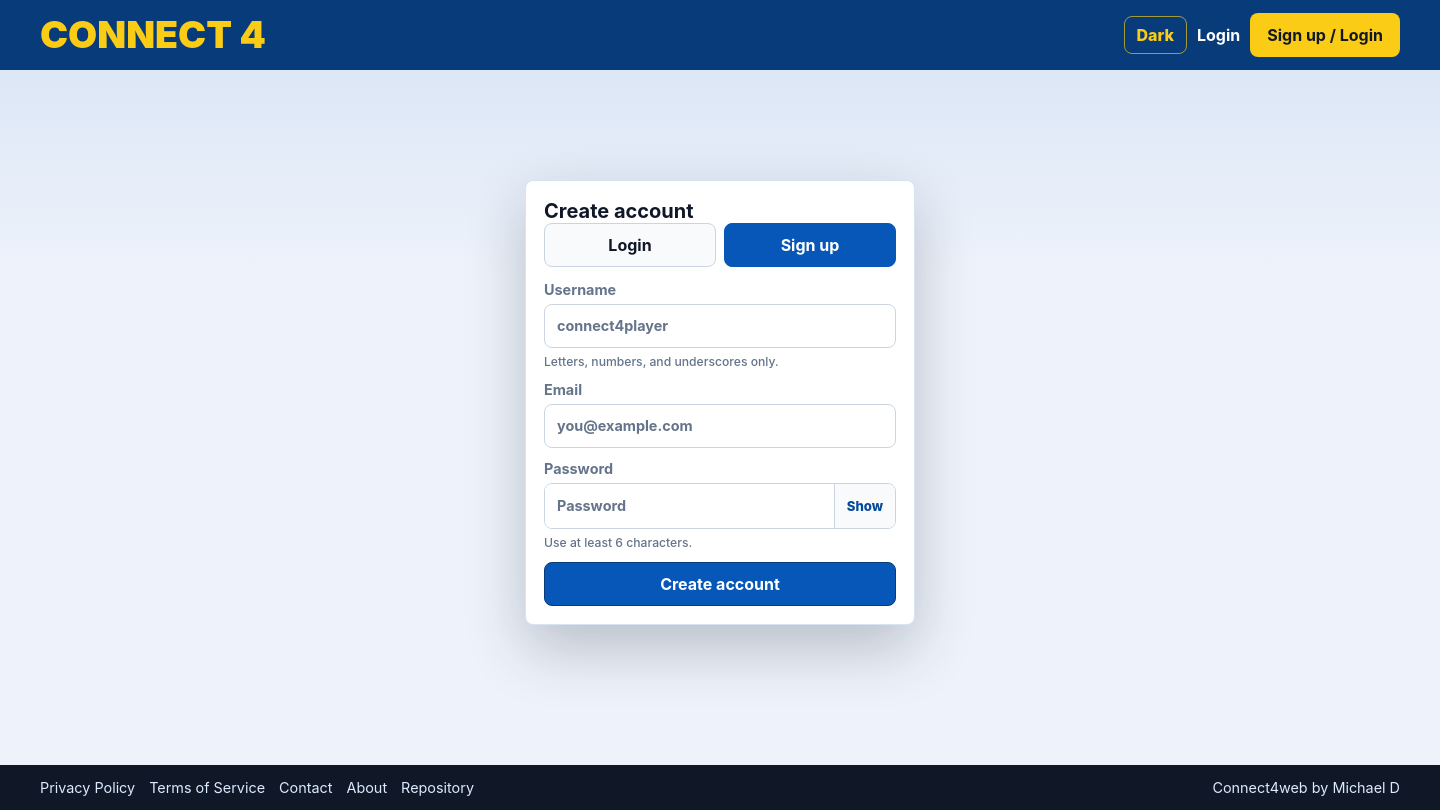
Test: application behavior › sanitizes signup inputs and supports password visibility
In the field with placeholder "connect4player": (720, 326) [544,304,896,348], type "Player 12<script>"
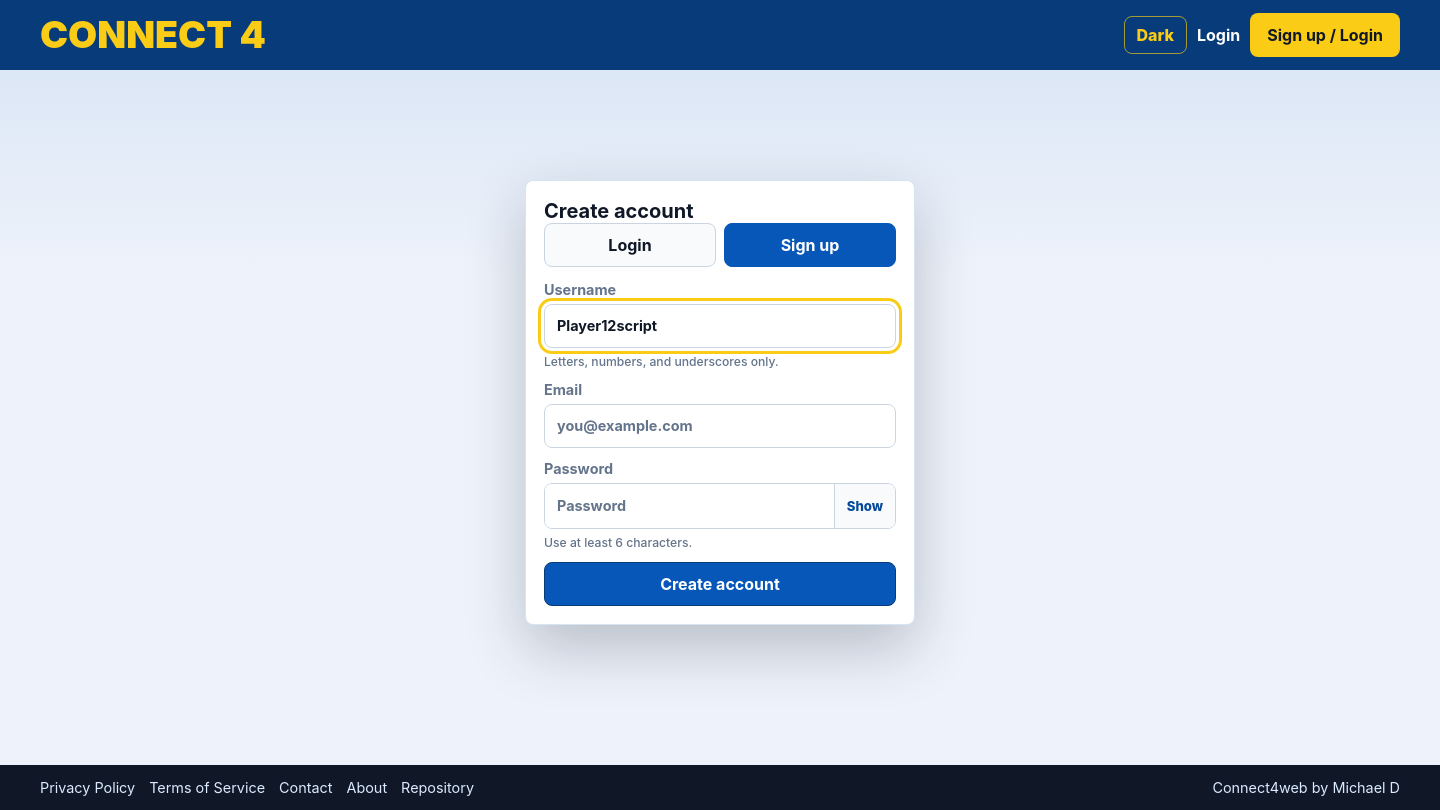
Check: the field with placeholder "connect4player" holds "Player12script", box [544,304,896,348]
In the password field with placeholder "Password": (689, 506) [545,484,834,528], type "secret12"
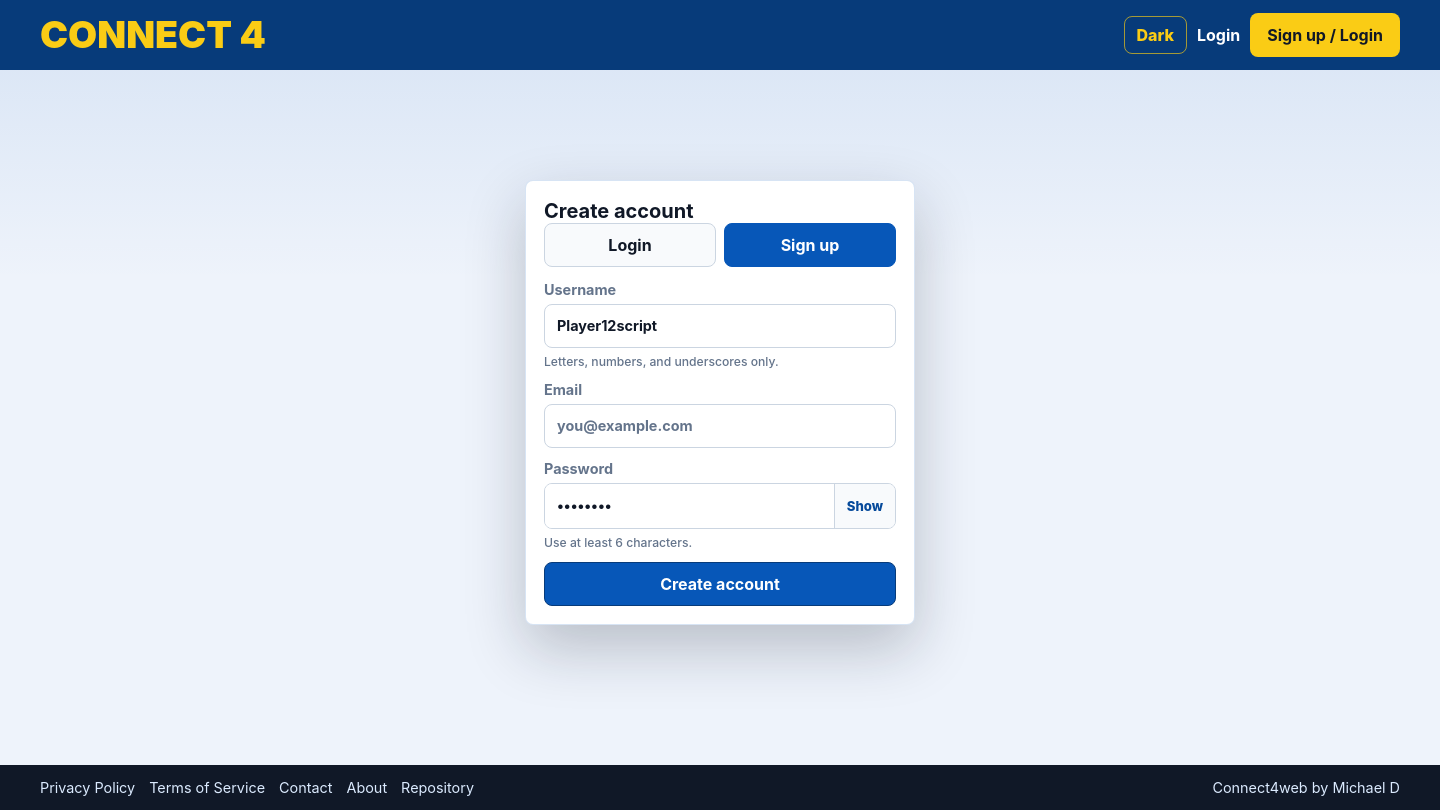
Click the button with aria-label "Show password": (864, 506) [834,484,895,528]
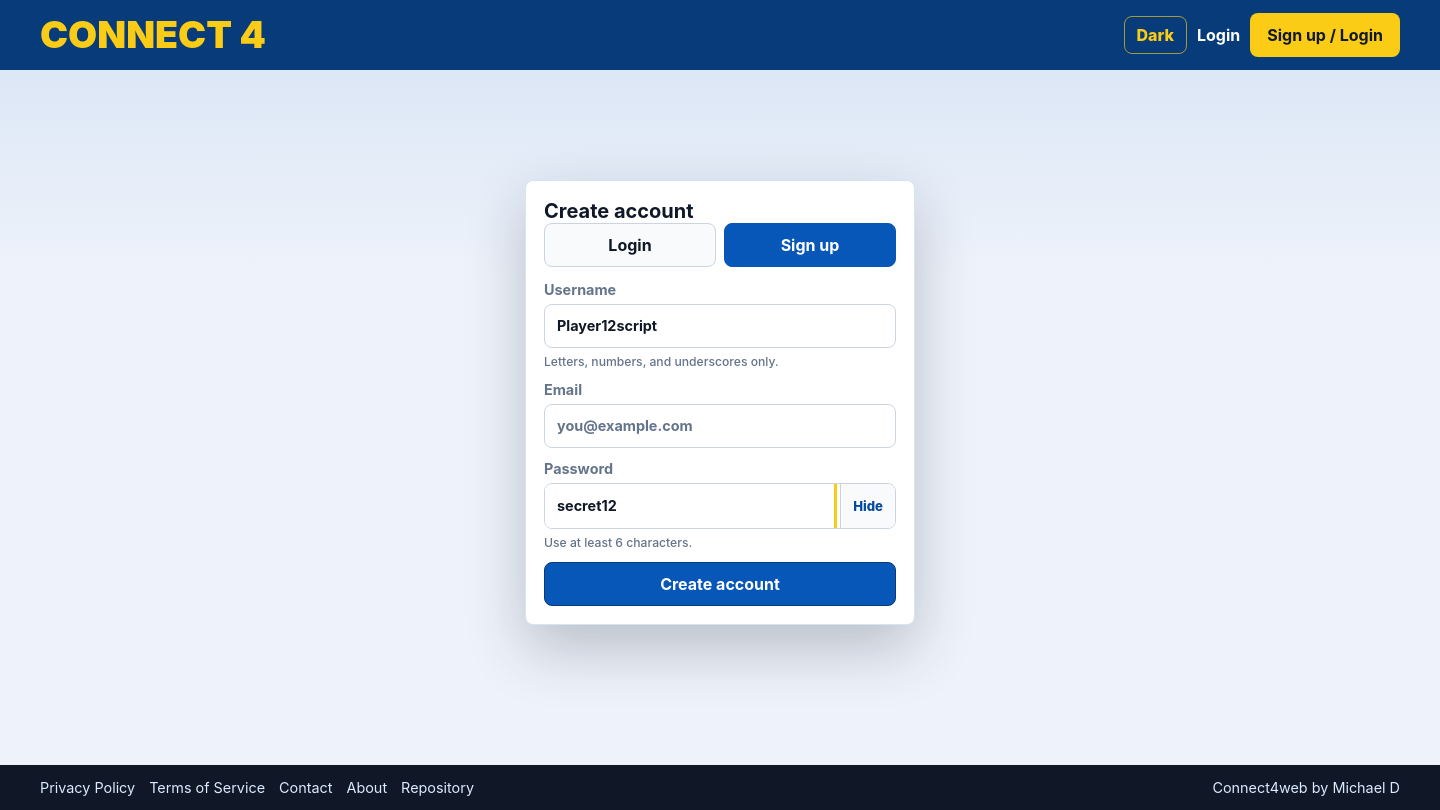
Check: the field with placeholder "Password" shows its text, box [545,484,840,528]
